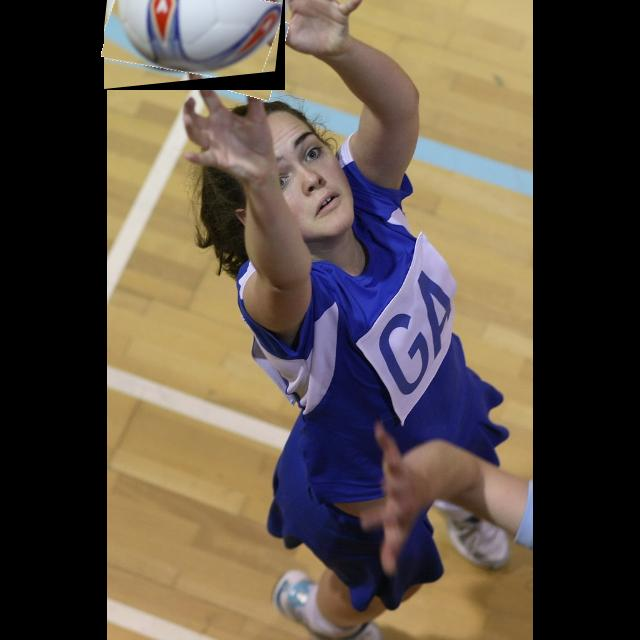Football: (104, 0, 285, 90)
